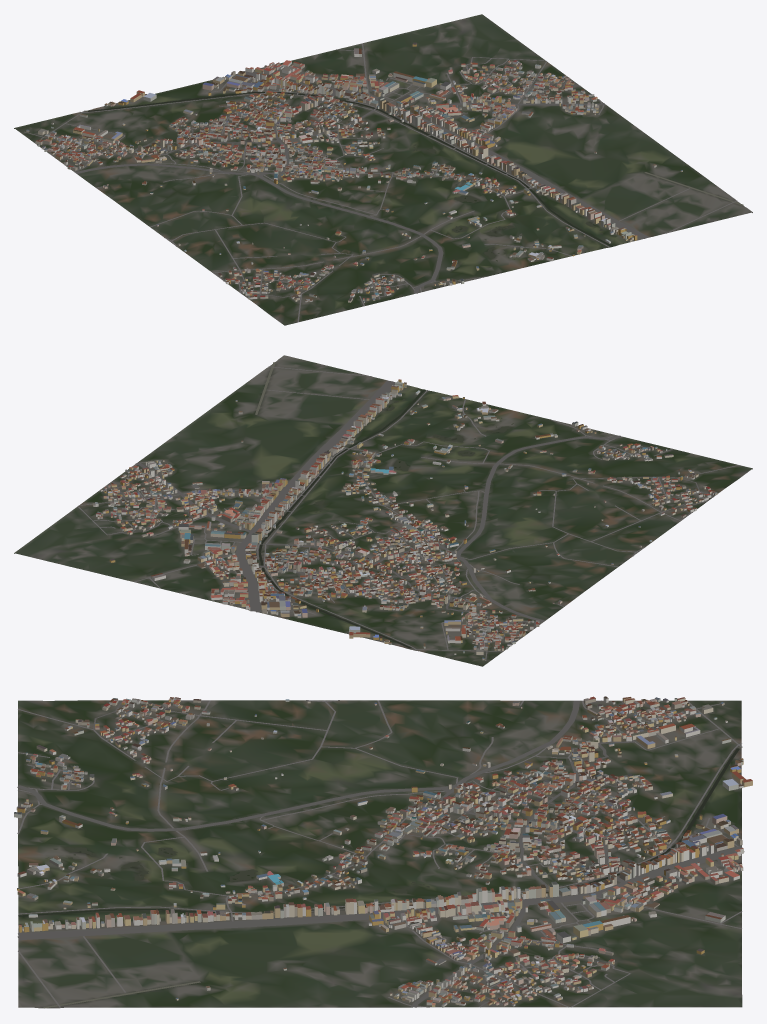
3 renders of one model, top to bottom at view 1: azimuth 30°, elevation 25°; view 2: azimuth 150°, elevation 25°; view 3: azimuth 270°, elevation 25°, orthographic. The views are drawn at different scales.
Parts seen in each view (by area): view 1: ground, buildings, roads, water; view 2: ground, buildings, roads, water; view 3: ground, buildings, roads, water.
Part boxes in pixels (x1,y1,x2,y2): ground: [14, 14, 752, 325]; buildings: [26, 42, 682, 303]; roads: [24, 43, 737, 322]; water: [85, 92, 743, 261]; ground: [14, 355, 752, 666]; buildings: [92, 379, 717, 660]; roads: [77, 366, 739, 660]; water: [255, 362, 513, 649]; ground: [18, 700, 742, 1008]; buildings: [14, 696, 752, 1007]; roads: [17, 700, 744, 1007]; water: [18, 746, 742, 1008].
Size of the model in its own units: 1410 by 31.55 by 1431.
